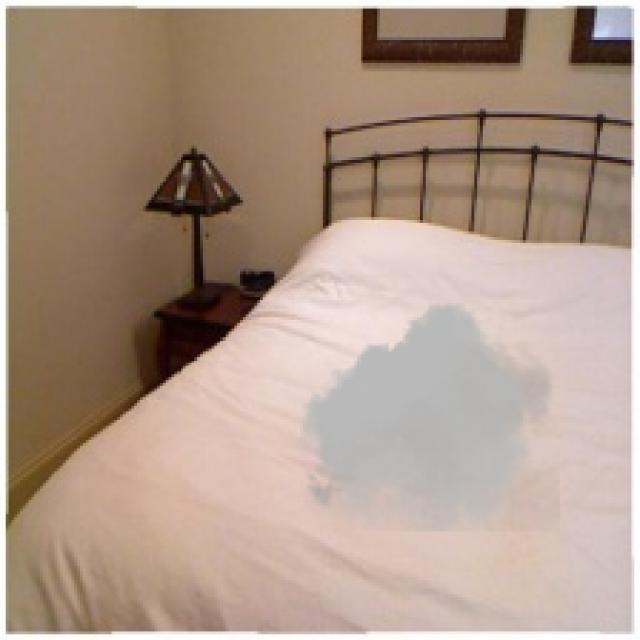Smoke: (297, 303, 560, 532)
